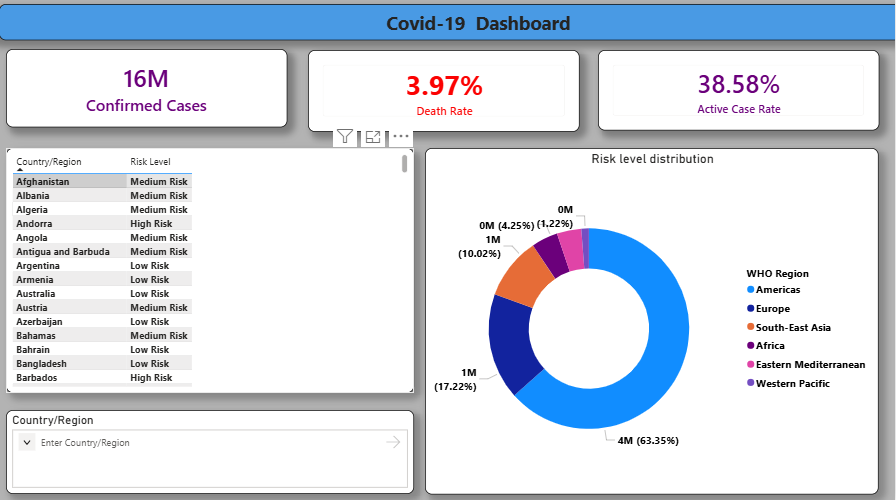

The page's visual inventory and layout, read from the dashboard file:
{"tool":"powerbi","page":{"name":"Page 4","canvas":[1280,720],"ordinal":3},"visuals":[{"type":"cardVisual","fields":{"Data":["Sum(country_wise_latest.Active)"]},"box":[50,14.3,240,112.9],"z":0},{"type":"cardVisual","fields":{"Data":["country_wise_latest.Death Rate"]},"box":[471.4,14.3,262.9,97.1],"z":1000},{"type":"cardVisual","fields":{"Data":["country_wise_latest.Active Case Rate"]},"box":[880,14.3,271.4,97.1],"z":2000},{"type":"clusteredColumnChart","title":"Top 10  Active cases countries ","fields":{"Y":["Sum(country_wise_latest.Active)"],"Category":["country_wise_latest.Country/Region"]},"box":[28.6,140,1205.7,247.1],"z":3000},{"type":"donutChart","title":"Risk level distribution","fields":{"Category":["country_wise_latest.WHO Region"],"Y":["Sum(country_wise_latest.Active)"]},"box":[792.9,402.9,407.1,308.6],"z":4000},{"type":"tableEx","fields":{"Values":["country_wise_latest.Country/Region","country_wise_latest.Risk Level"]},"box":[50,402.9,671.4,192.9],"z":5000},{"type":"textSlicer","fields":{"Values":["country_wise_latest.Country/Region"]},"box":[50,608.6,671.4,102.9],"z":6000}]}

Visuals, with their boxes in screenshot pixels (x1, y1, x2, y2), scaled from the page's 1280x720 canvas onto the 896x500 screenshot:
cardVisual - Sum(country_wise_latest.Active): x1=35 y1=10 x2=203 y2=88
cardVisual - country_wise_latest.Death Rate: x1=330 y1=10 x2=514 y2=77
cardVisual - country_wise_latest.Active Case Rate: x1=616 y1=10 x2=806 y2=77
"Top 10  Active cases countries " clusteredColumnChart: x1=20 y1=97 x2=864 y2=269
"Risk level distribution" donutChart: x1=555 y1=280 x2=840 y2=494
tableEx - country_wise_latest.Country/Region x country_wise_latest.Risk Level: x1=35 y1=280 x2=505 y2=414
textSlicer - country_wise_latest.Country/Region: x1=35 y1=423 x2=505 y2=494
